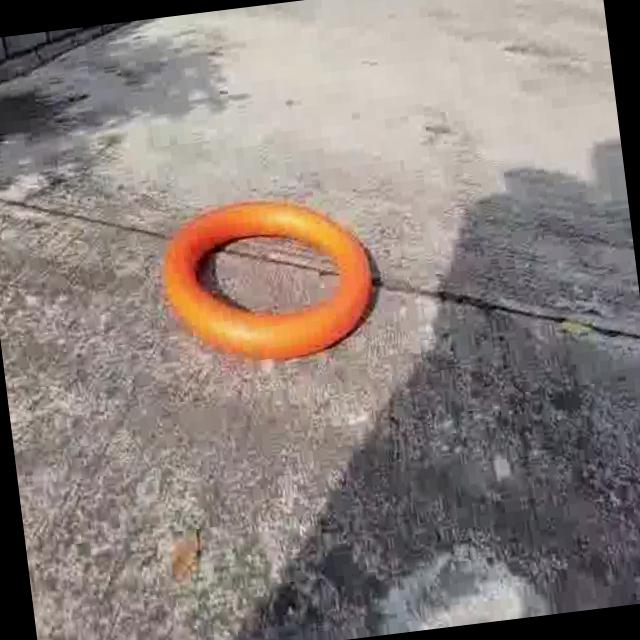note: (152, 178, 384, 372)
